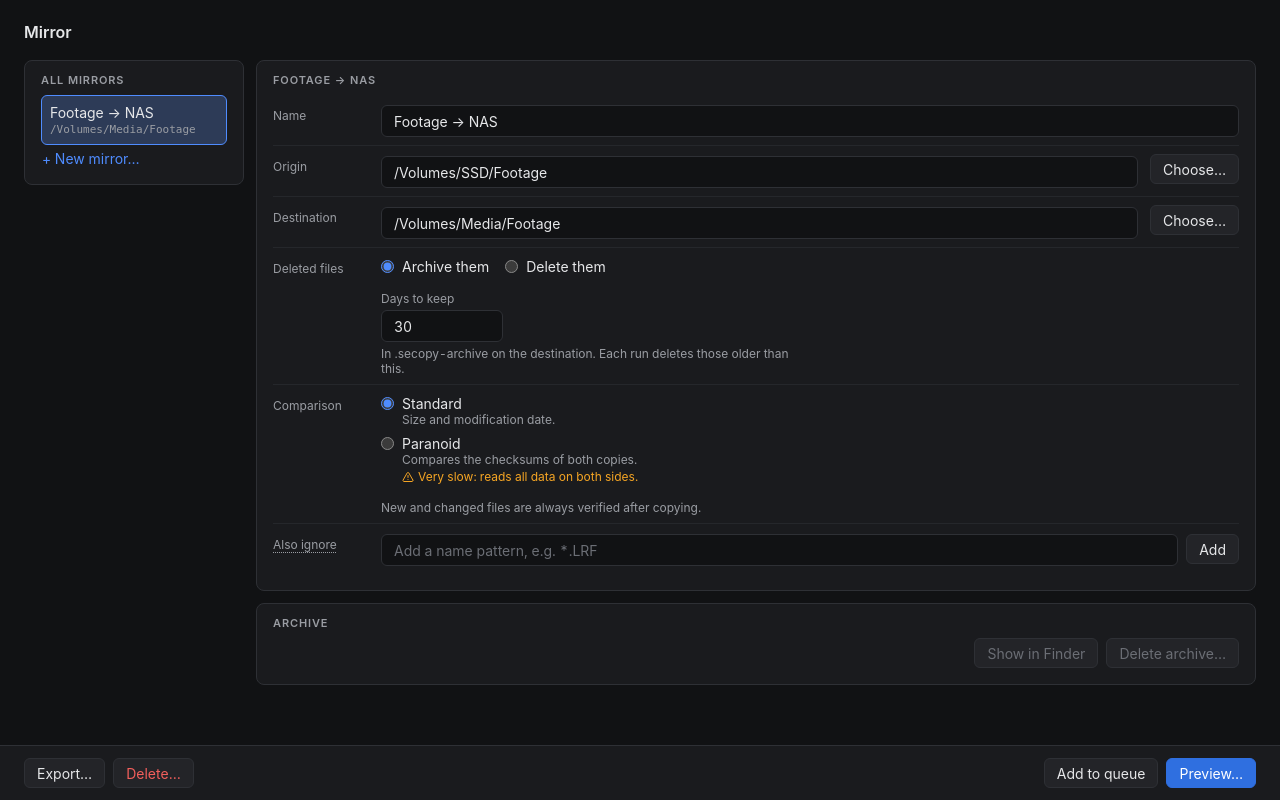
Test: MirrorScreen › a cancelled preview shows no error; a failed one says why
Click the button "Preview…". click: (1211, 773)
box: [1166,758,1256,788]
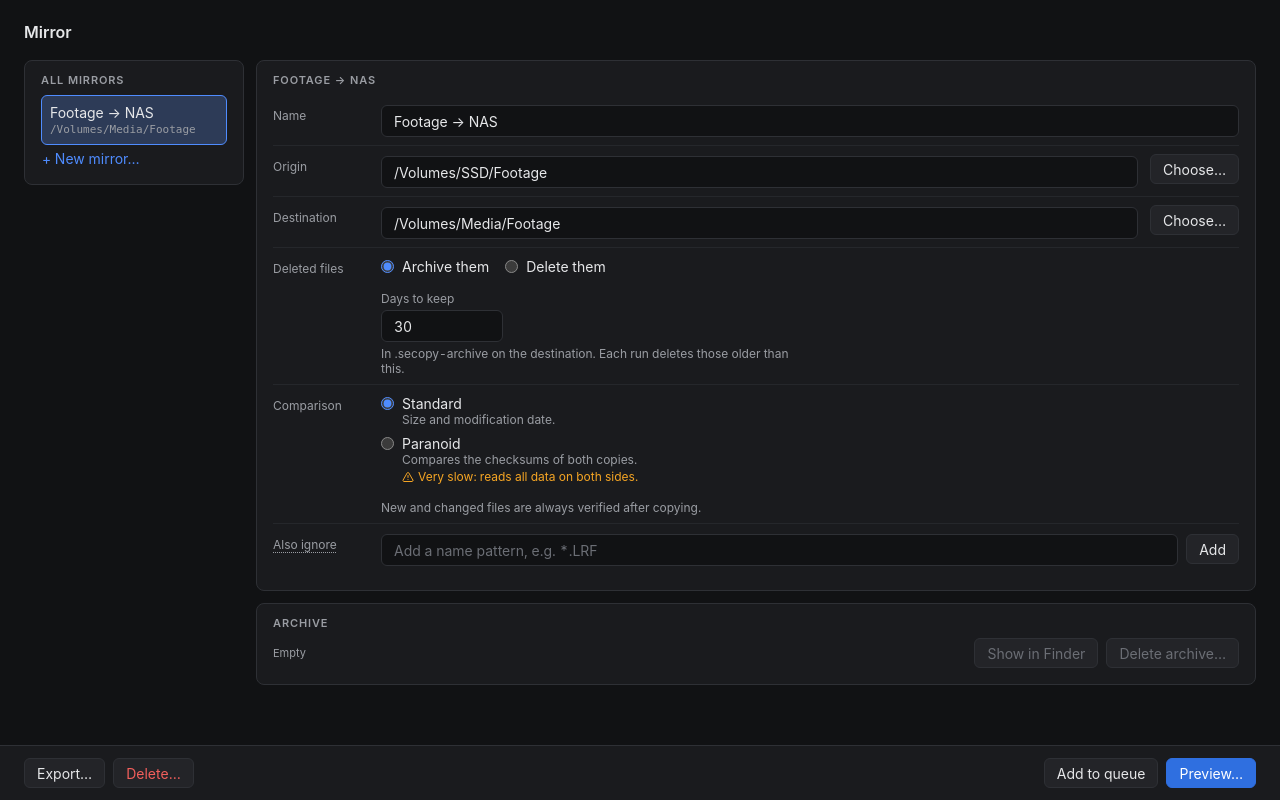
Click the button "Preview…". click: (1211, 773)
box: [1166,758,1256,788]
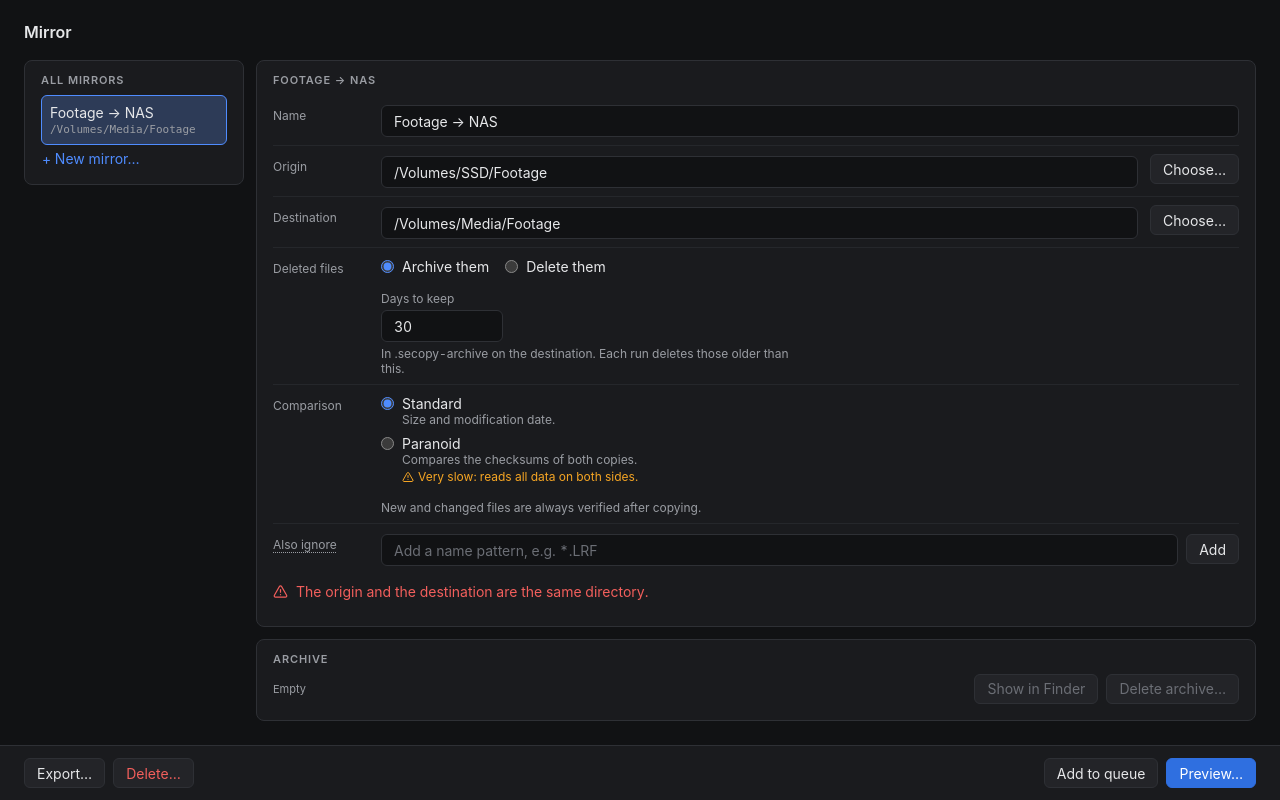
Result: the text "The origin and the destination are the same directory." is shown at [296,582,648,602]
